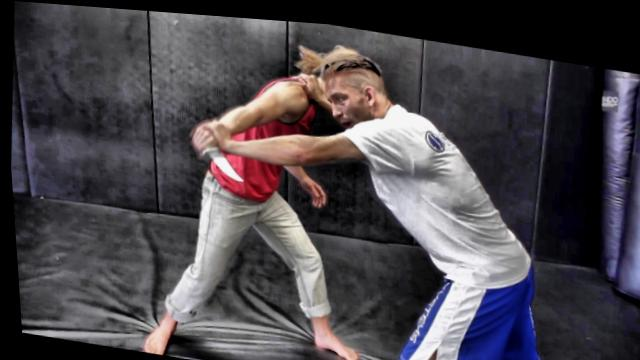knife: (181, 122, 250, 184)
